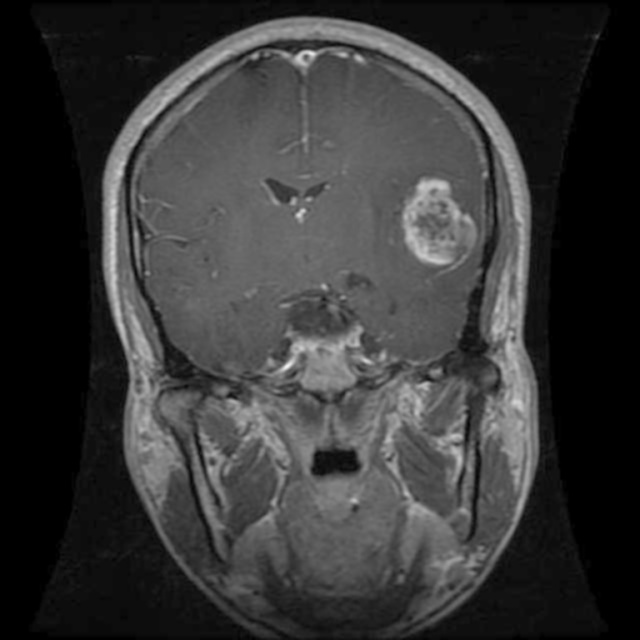pituitary tumor: (401, 178, 475, 266)
